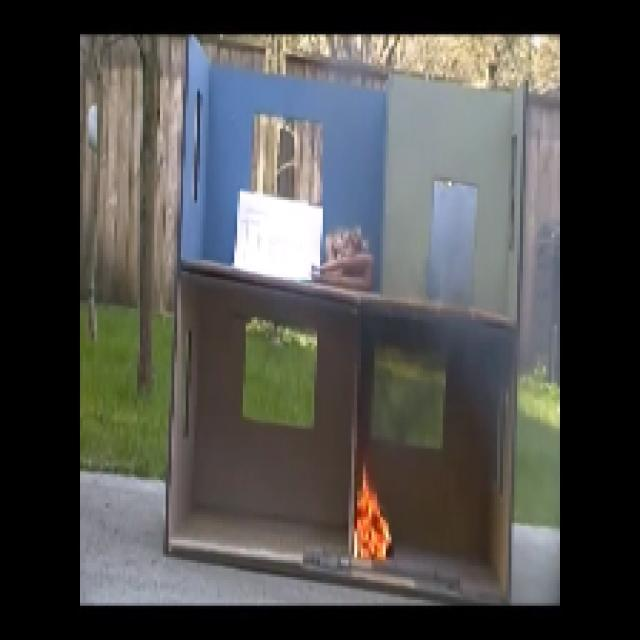Fire: (354, 468, 396, 560)
Smoke: (434, 340, 521, 413)
